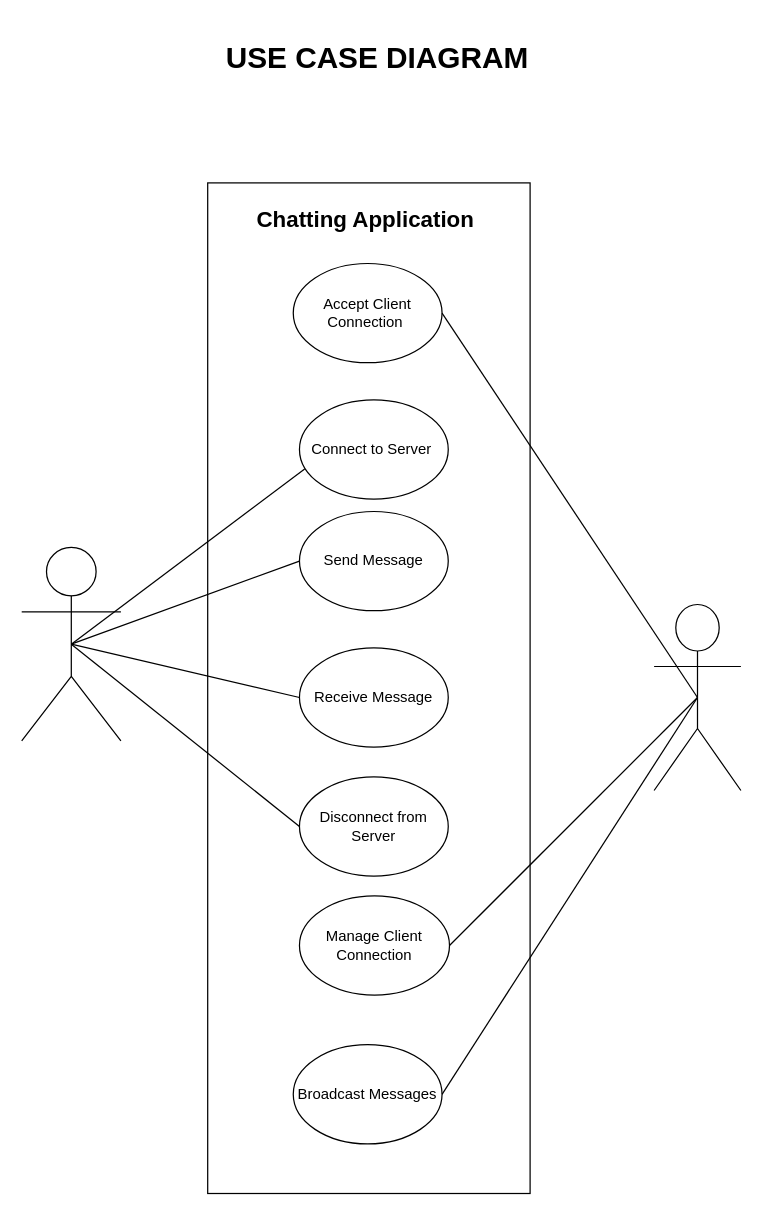
This 763x1215 diagram has some shape labels left out. Each missing label, with the centre of its shape:
Client: the point at 70,643
Server: the point at 697,696
